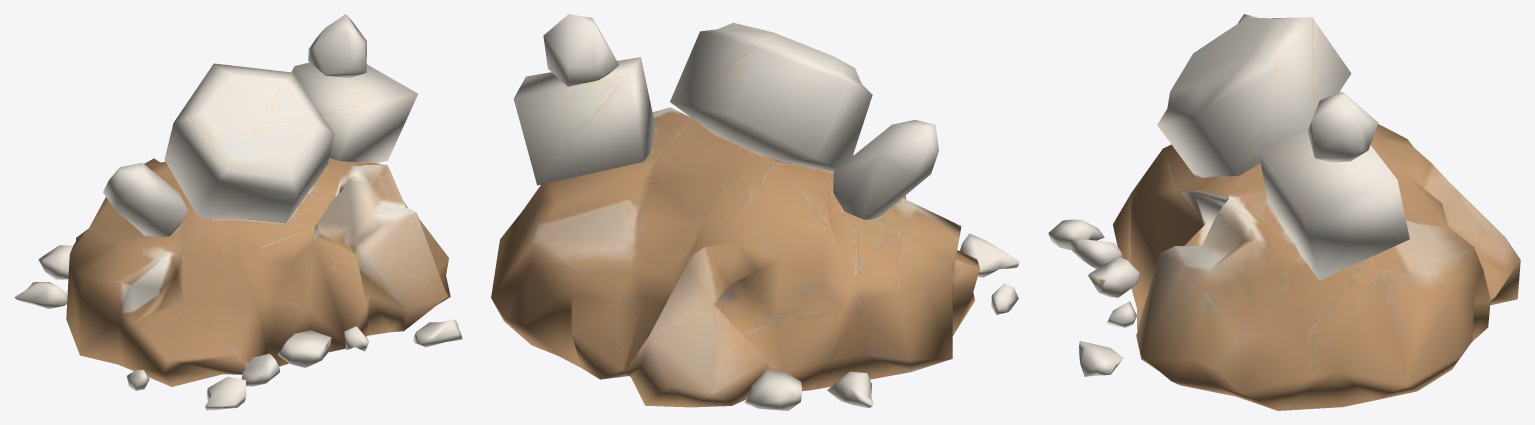
The model's file is source_plastic-lod0.cd2955f5683f.glb.
The picture shows the model from 3 angles, left to right: view 1: azimuth 30°, elevation 25°; view 2: azimuth 150°, elevation 25°; view 3: azimuth 270°, elevation 25°; orthographic projection. The views are drawn at different scales.
Size of the model in its own units: 1 by 0.6578 by 0.9916.
1 material, 1 textured.
